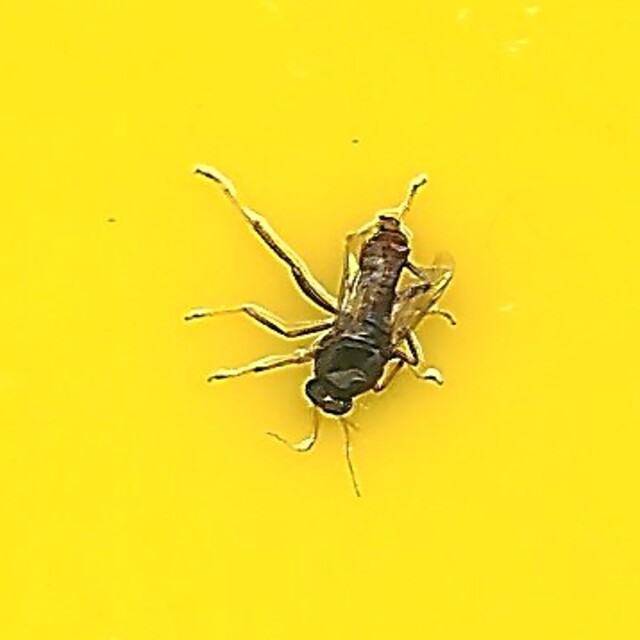Brachycera: (179, 161, 461, 479)
